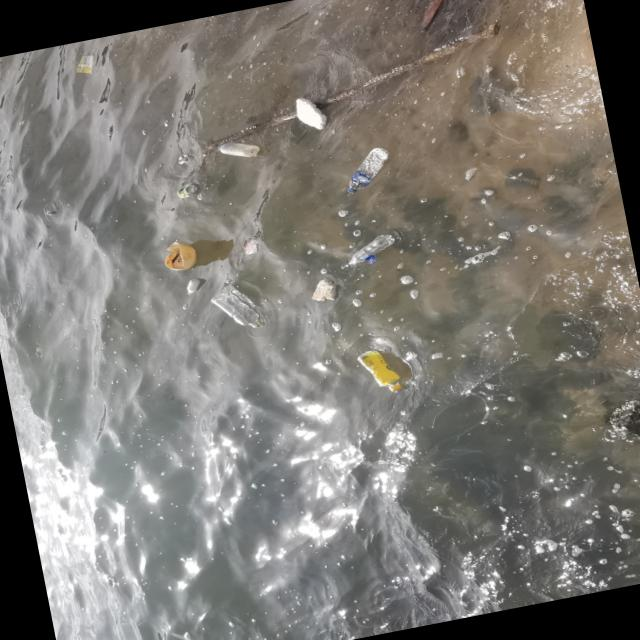can: (179, 184, 200, 199)
foam: (292, 94, 332, 134), (309, 277, 341, 305)
plastic bottle: (212, 287, 267, 335), (359, 345, 407, 396), (347, 147, 391, 193), (344, 232, 396, 267), (216, 137, 262, 163), (186, 279, 206, 296)
